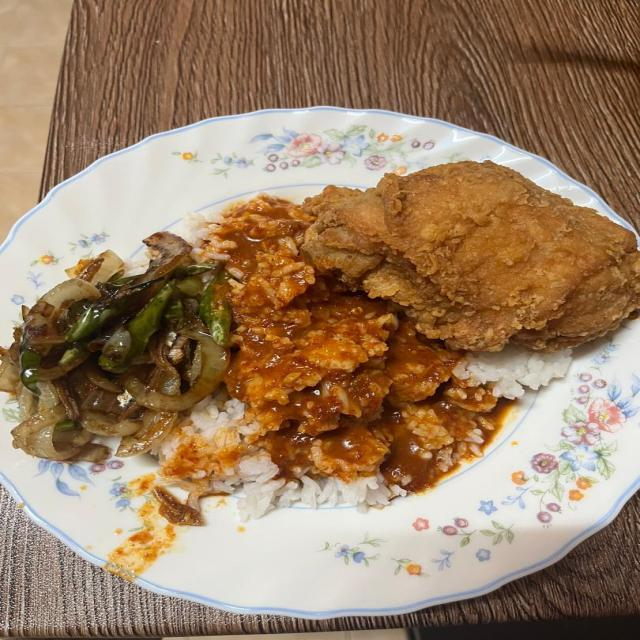Chicken: (304, 159, 637, 350)
Plate: (133, 320, 639, 617)
Rice: (153, 198, 572, 521)
Vegetables: (1, 228, 238, 465)
